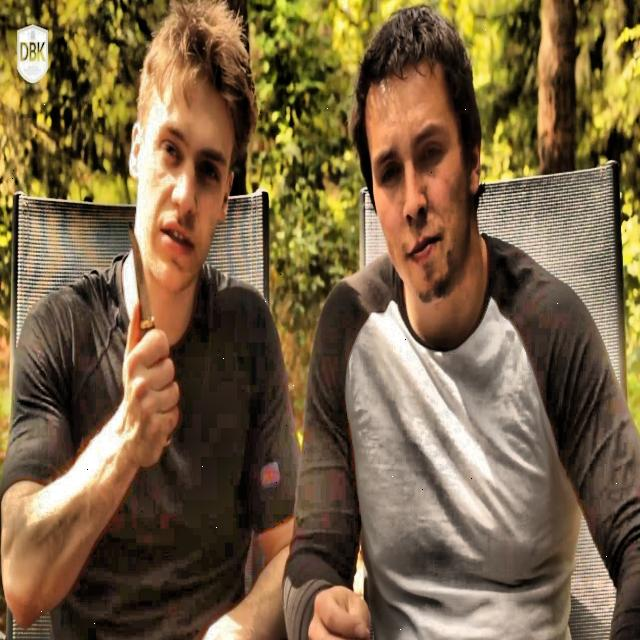knife: (129, 225, 155, 342)
